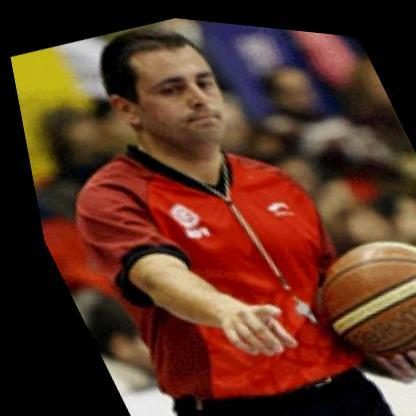basketball: (278, 202, 416, 386)
